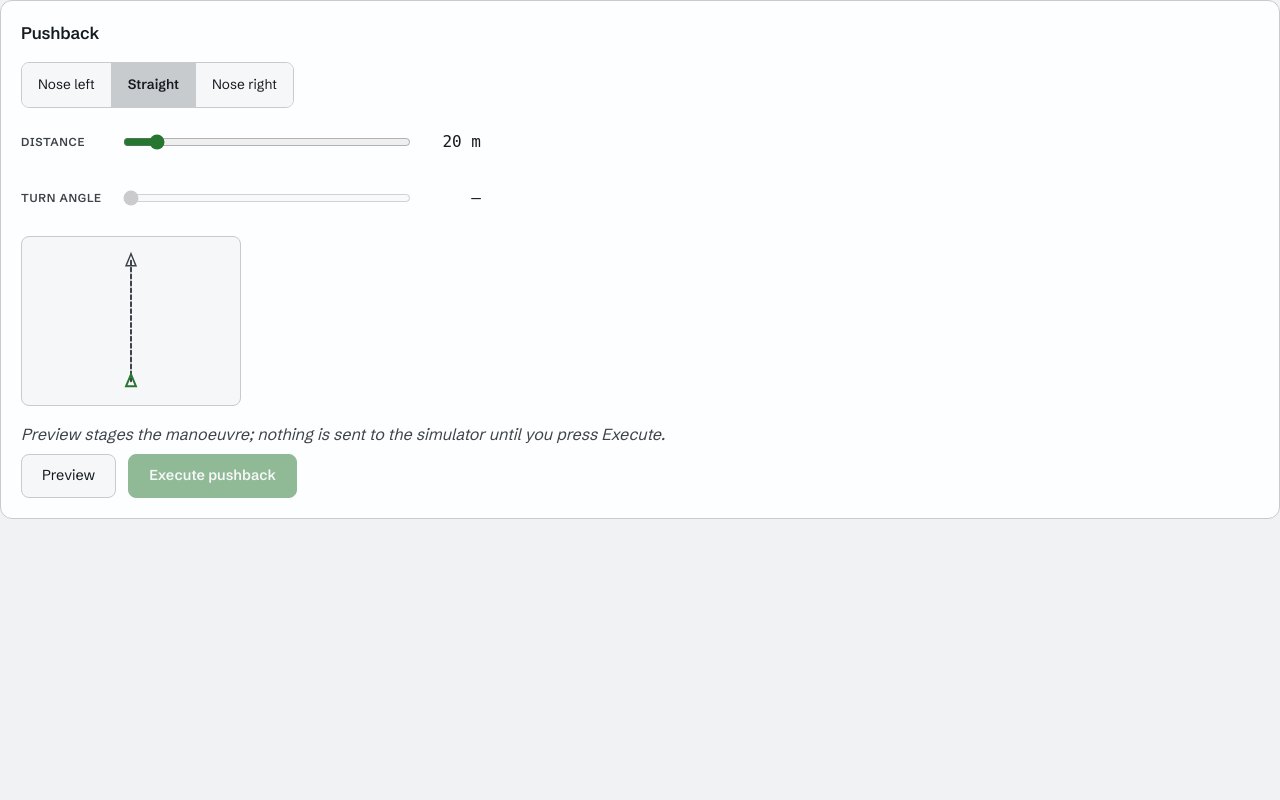
Test: PushbackPanel › draws the SERVER's path and states its heading change, not a client re-derivation
Expected: the button "Preview" is enabled, [21,454,116,498]
Click the button "Nose right" at coordinates (244, 85), box [195,63,293,107]
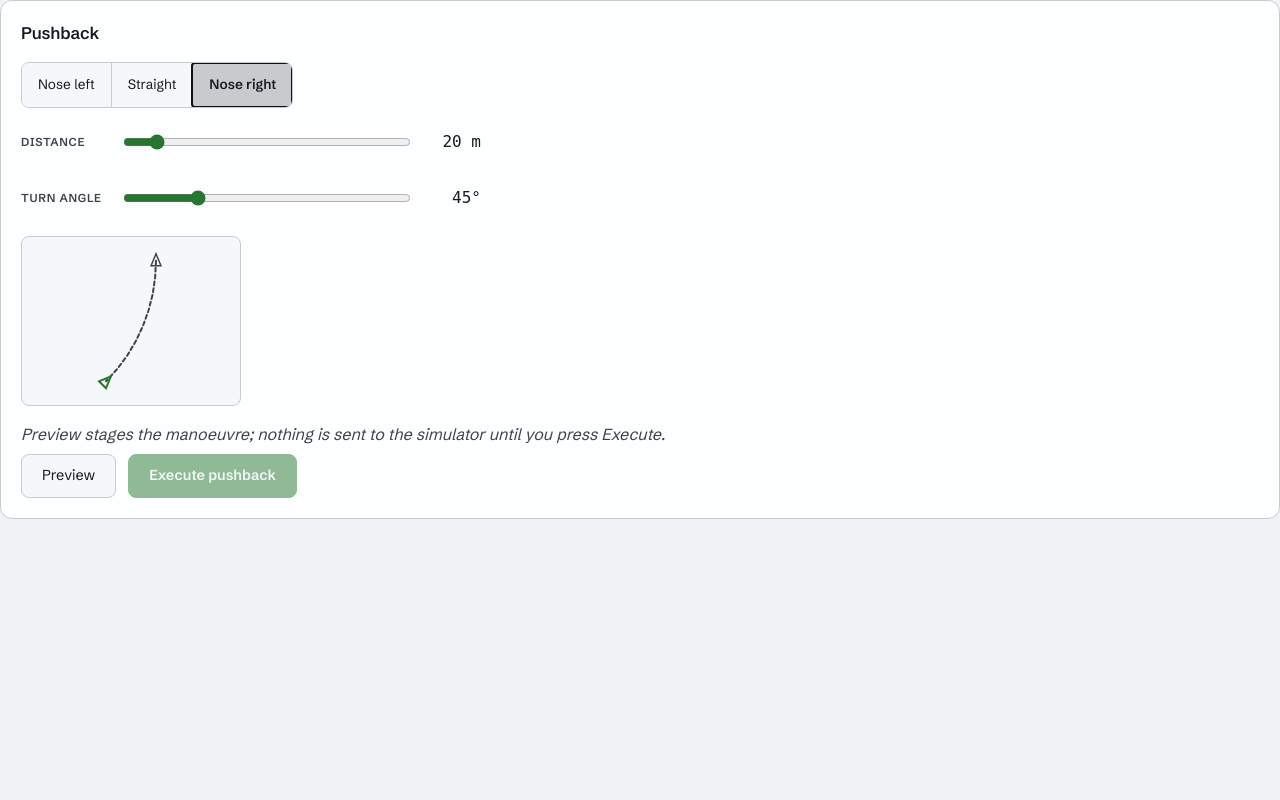
Click the button "Preview" at coordinates (69, 476), box [21,454,116,498]
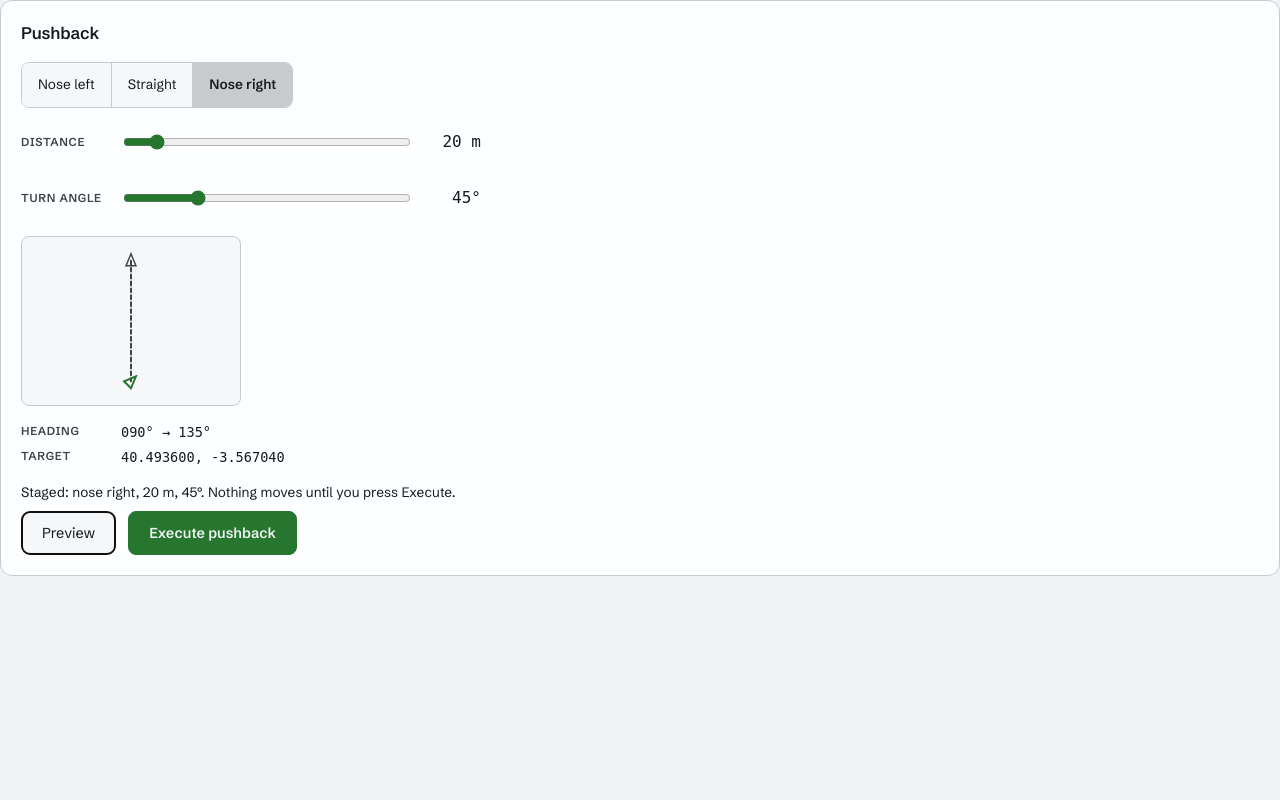
Now the text "090° → 135°" is shown, box [121,422,211,443]
